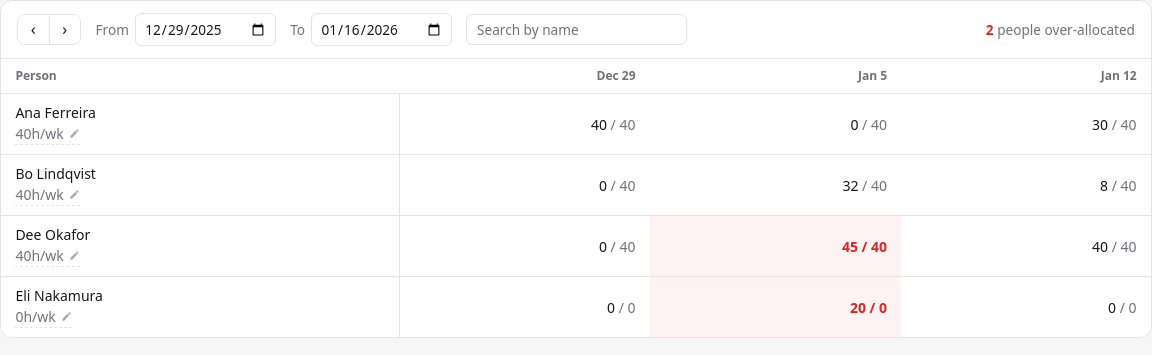
Test: search › filters the rows by name
expect the column heading "Ana Ferreira 40h/wk" is shown: met, box [1,94,400,155]
Type "ana" into the search field labelled "Search by name".
click(577, 29); type("ana")  # box [466,14,687,45]
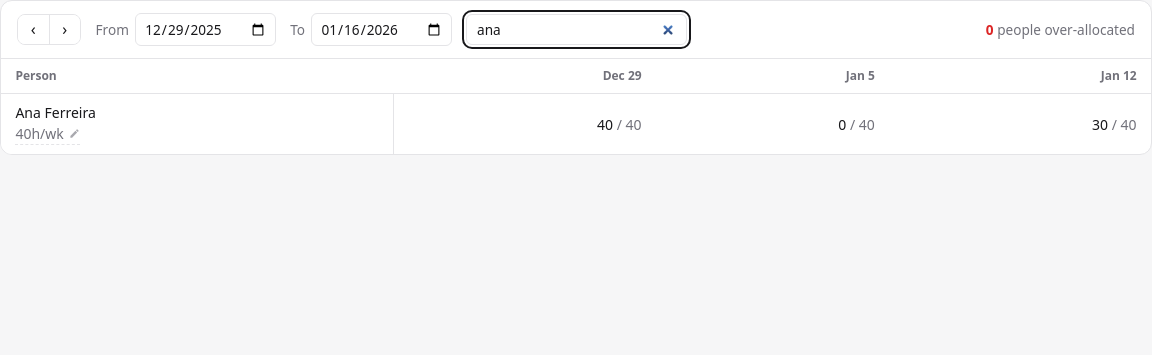
expect the column heading "Ana Ferreira 40h/wk" is shown: met, box [1,94,394,154]
expect the column heading "Bo Lindqvist" is gone: met
